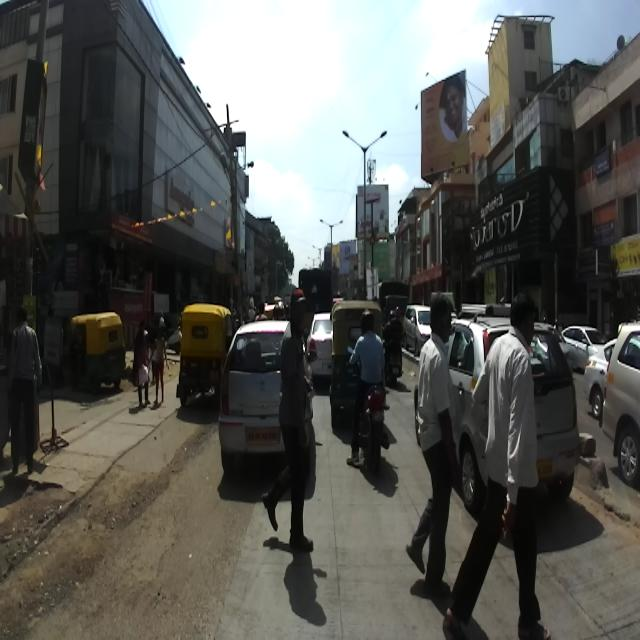motorcycle ahead at: (346, 378, 395, 482)
person ahead at: (408, 288, 553, 640), (258, 294, 329, 565)
